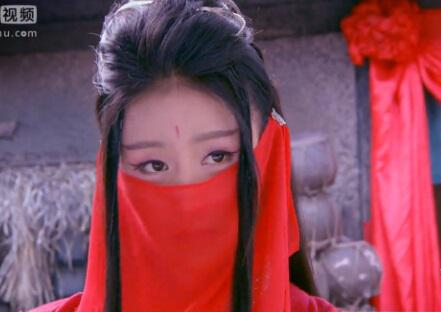OK: (118, 132, 255, 269)
